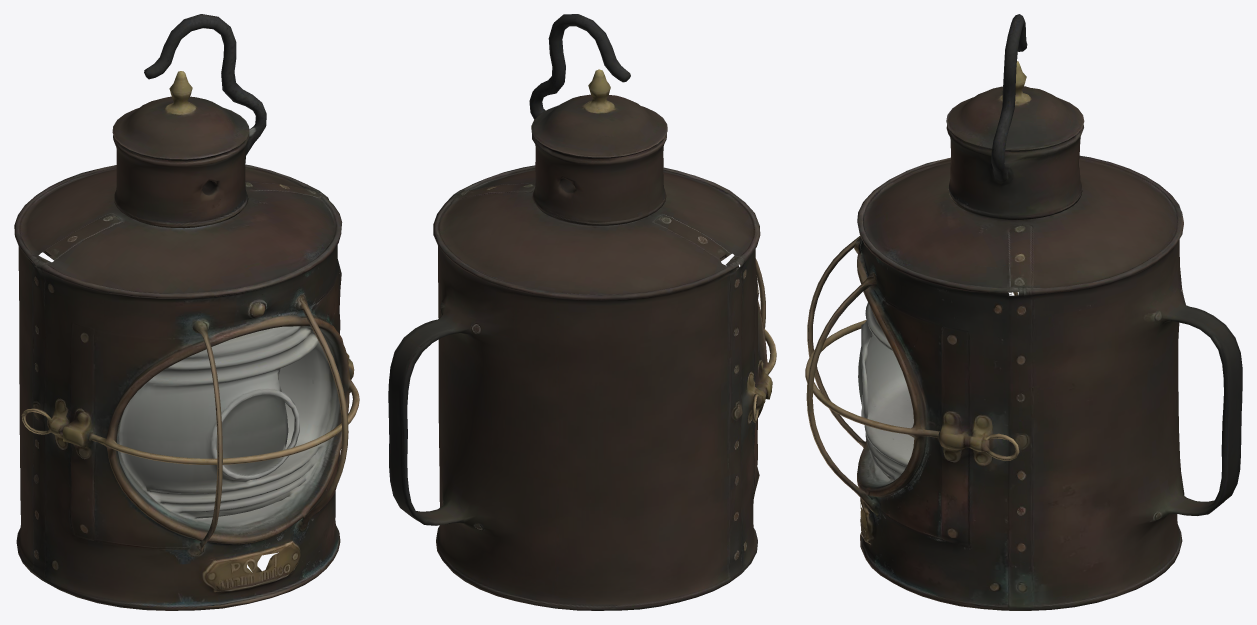
File: lanterne.glb
3 renders of one model, left to right at view 1: azimuth 30°, elevation 25°; view 2: azimuth 150°, elevation 25°; view 3: azimuth 270°, elevation 25°, orthographic.
Visible parts, largest first — view 1: tripo_node_4ba1a0f2; view 2: tripo_node_4ba1a0f2; view 3: tripo_node_4ba1a0f2.
Part boxes in pixels (left/top/right/bottom): tripo_node_4ba1a0f2: left=14, top=14, right=359, bottom=610; tripo_node_4ba1a0f2: left=388, top=14, right=776, bottom=610; tripo_node_4ba1a0f2: left=805, top=14, right=1242, bottom=610.
Size of the model in its own units: 61.23 by 97.96 by 72.76.
Materials: 1 (1 with a texture image).
